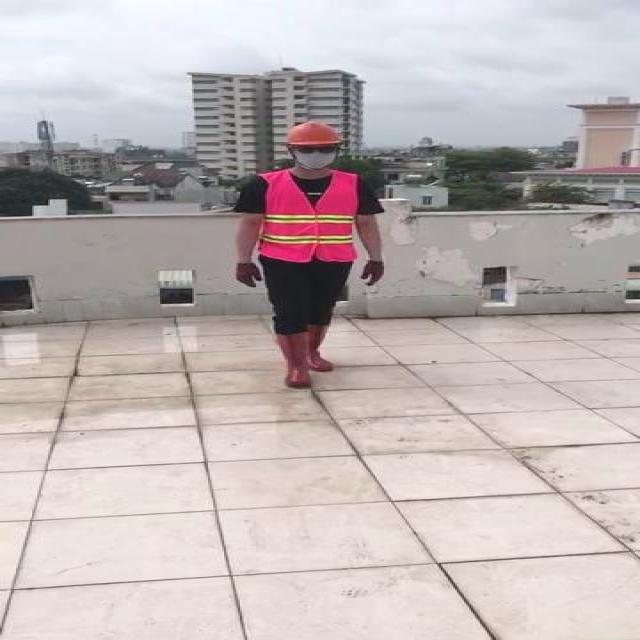boots: (275, 330, 313, 388), (306, 323, 340, 371)
face_mask: (292, 144, 338, 168)
glasses: (292, 142, 340, 156)
hand_glove: (235, 260, 265, 289), (361, 260, 384, 288)
head_helmet: (283, 120, 343, 146)
person: (232, 116, 390, 395)
vest: (263, 169, 356, 262)
